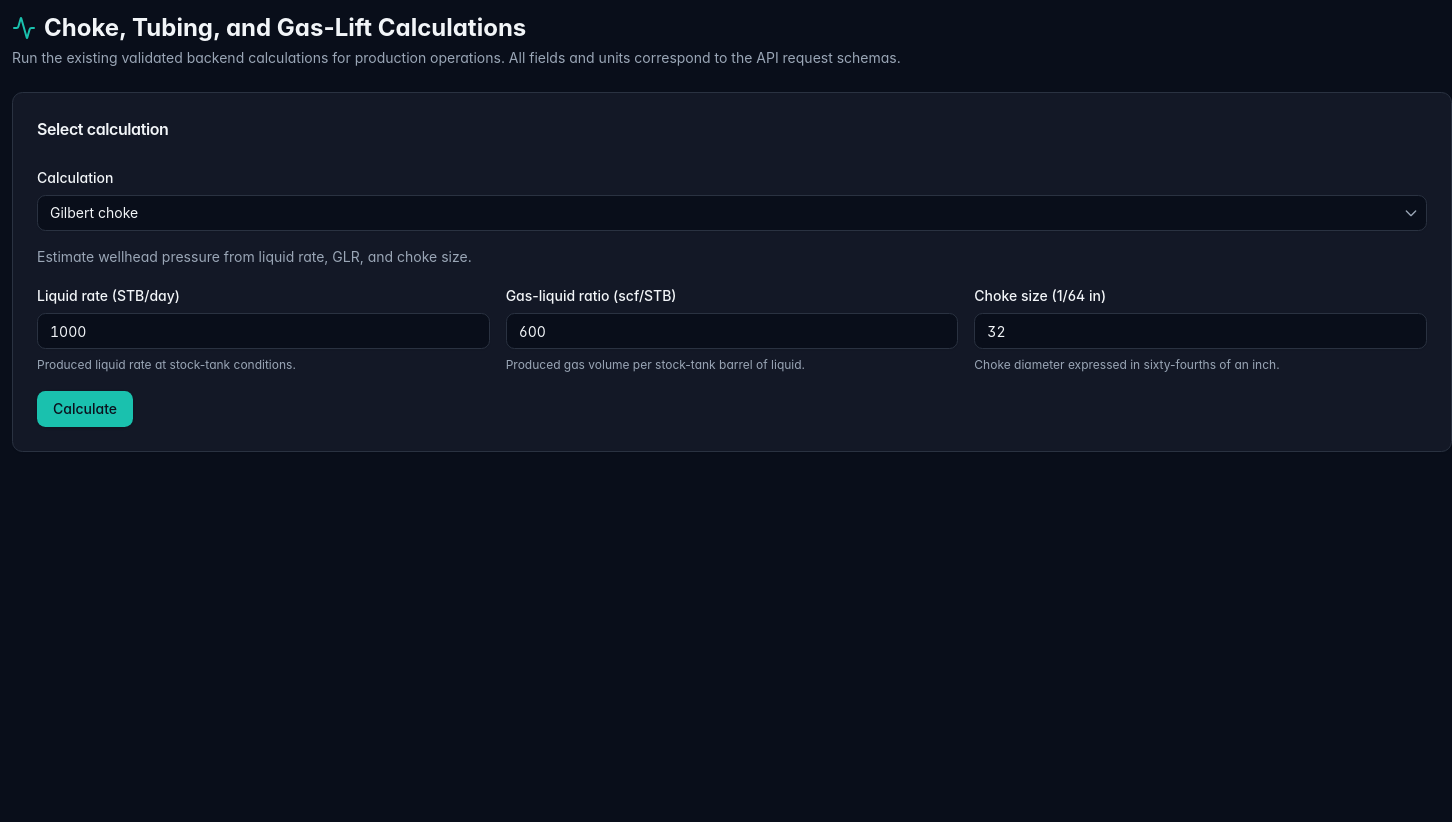
it: ReservoirOperationsView › submits the selected operation with its documented fields
The image size is (1452, 822).
Click the button "Calculate". click: (85, 408)
box: [37, 390, 133, 426]
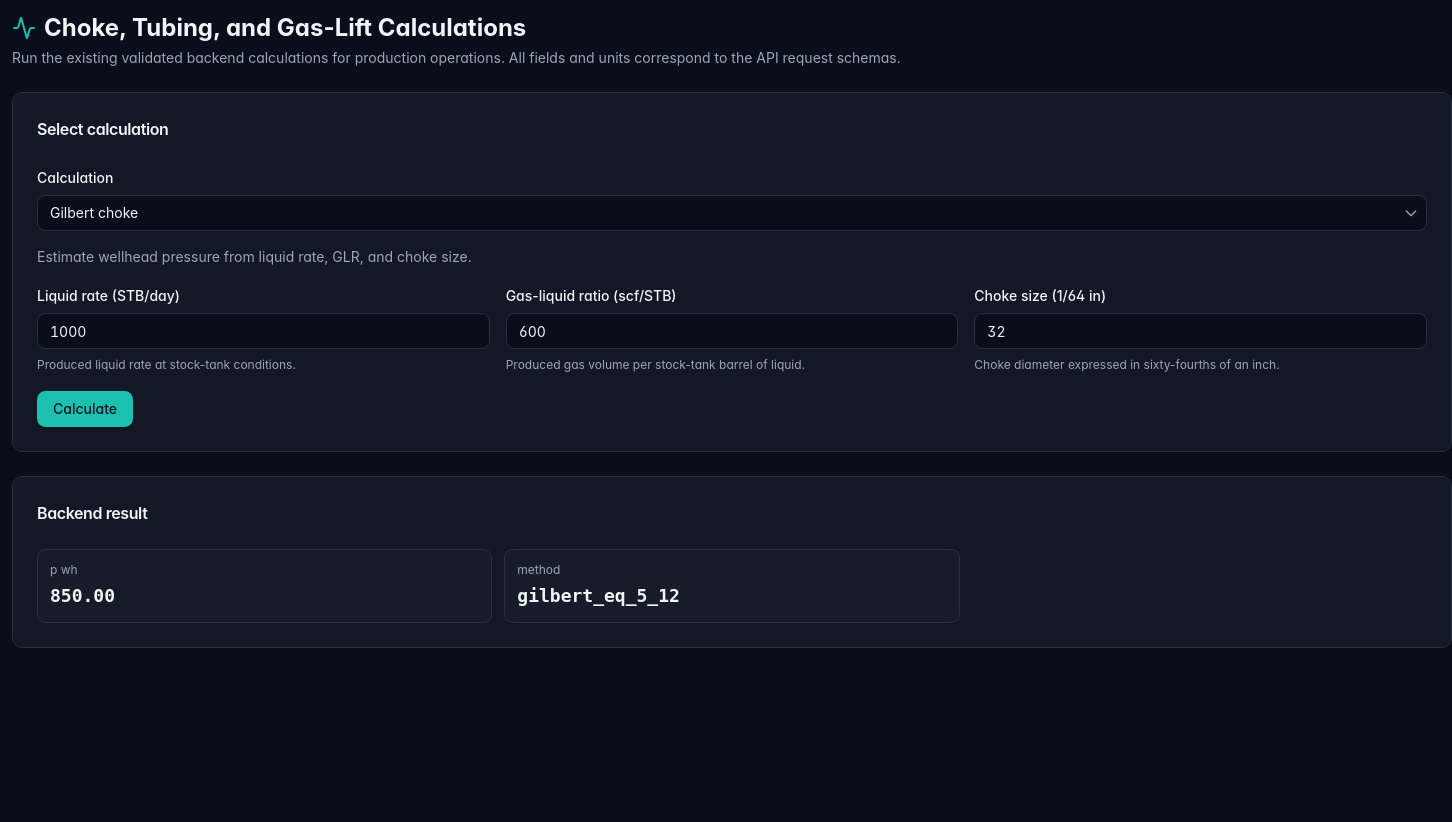
Now the text "gilbert_eq_5_12" is shown, box [517, 584, 680, 606]
Now the text "850.00" is shown, box [50, 584, 115, 606]
